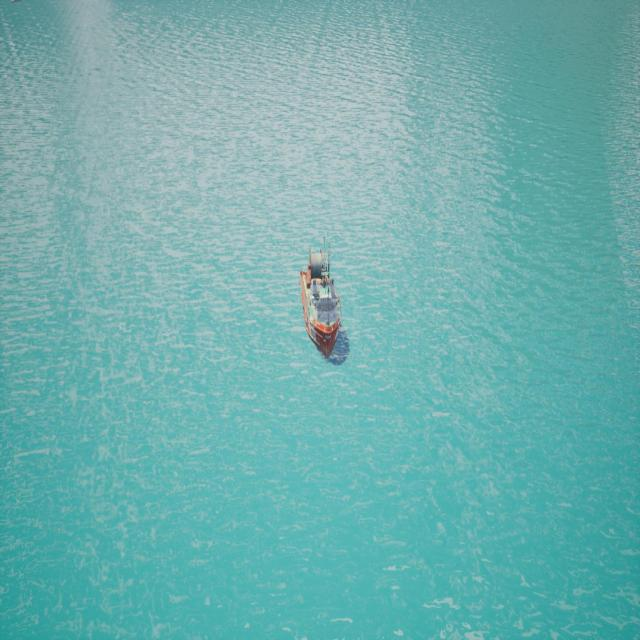tug boat: (301, 239, 344, 365)
